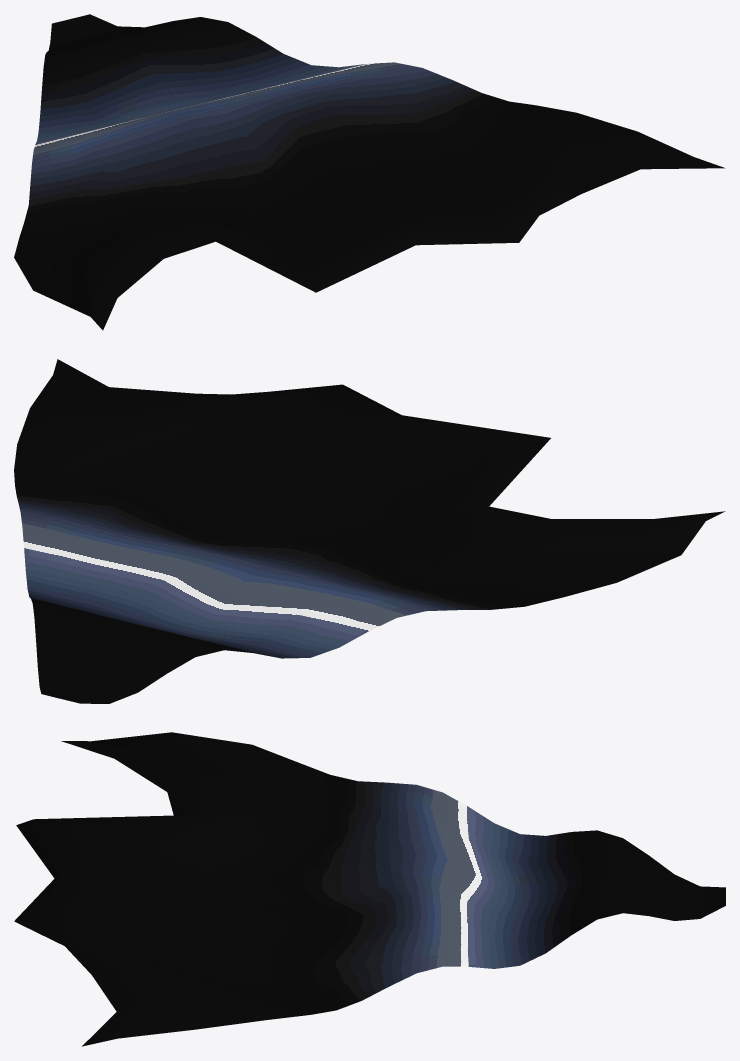
File: 0411_shanxing.glb
The picture shows the model from 3 angles, top to bottom: view 1: azimuth 30°, elevation 25°; view 2: azimuth 150°, elevation 25°; view 3: azimuth 270°, elevation 25°; orthographic projection. The views are drawn at different scales.
Bounding box in the file's own units: 2.2 × 0.1127 × 2.12.
1 material, 1 textured.
